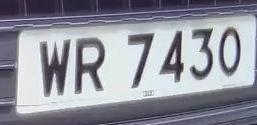0: (216, 21, 246, 82)
3: (188, 22, 218, 86)
4: (155, 25, 186, 88)
7: (122, 29, 157, 92)
R: (71, 28, 107, 100)
W: (35, 32, 74, 103)
